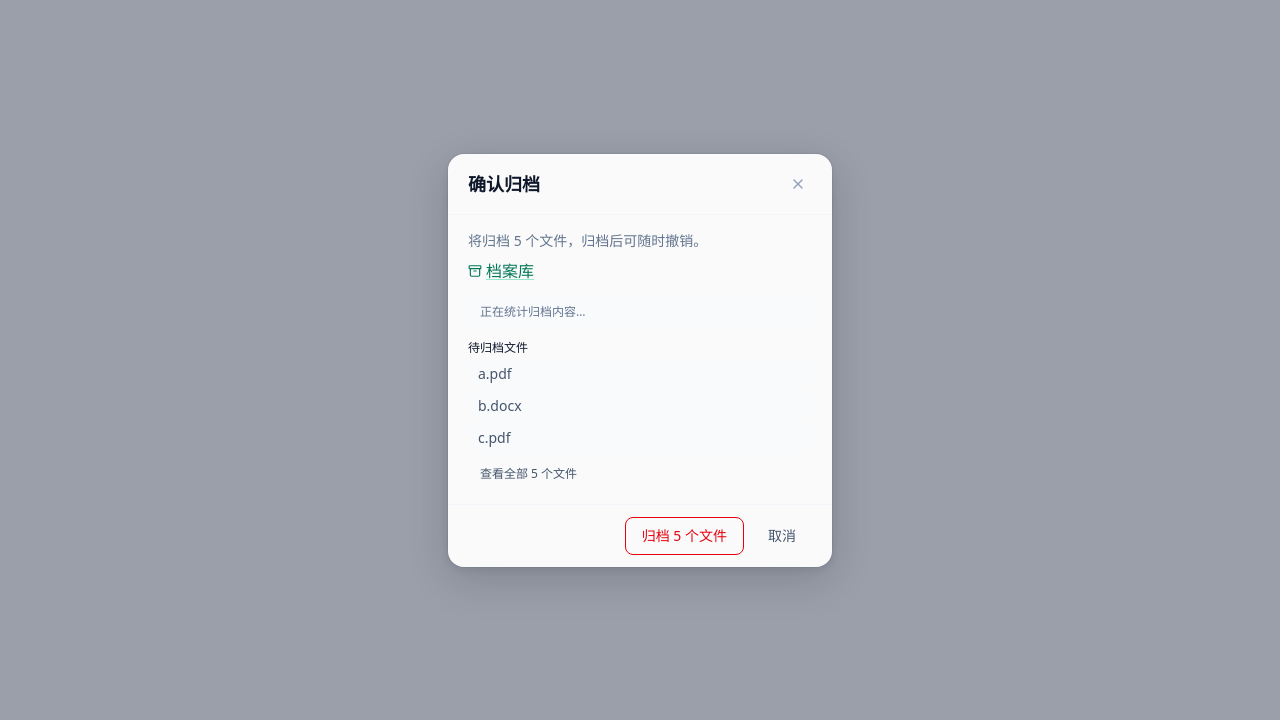
Scenario: ArchiveConfirmDialog › 悬浮文件名显示完整目标路径
Step 1. Hover over the text "a.pdf" → (640, 374), box x1=468 y1=360 x2=812 y2=388
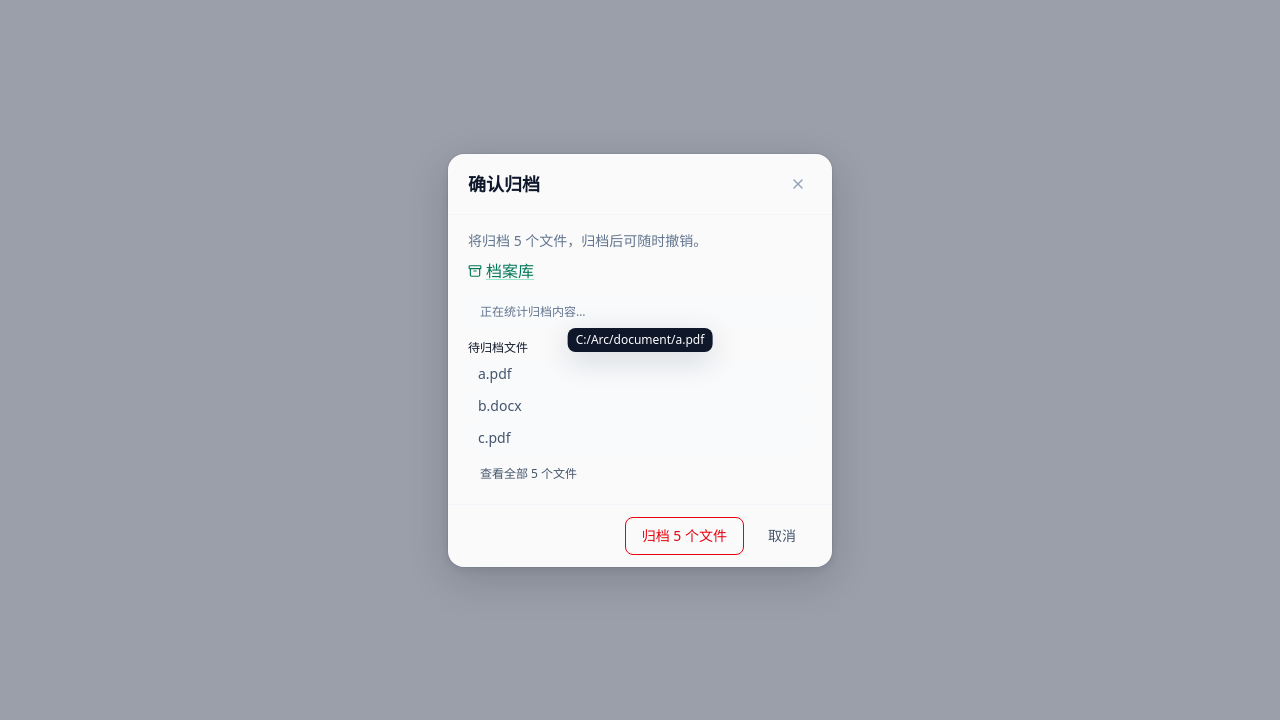
Now the tooltip "C:/Arc/document/a.pdf" is shown, box x1=568 y1=328 x2=712 y2=352
